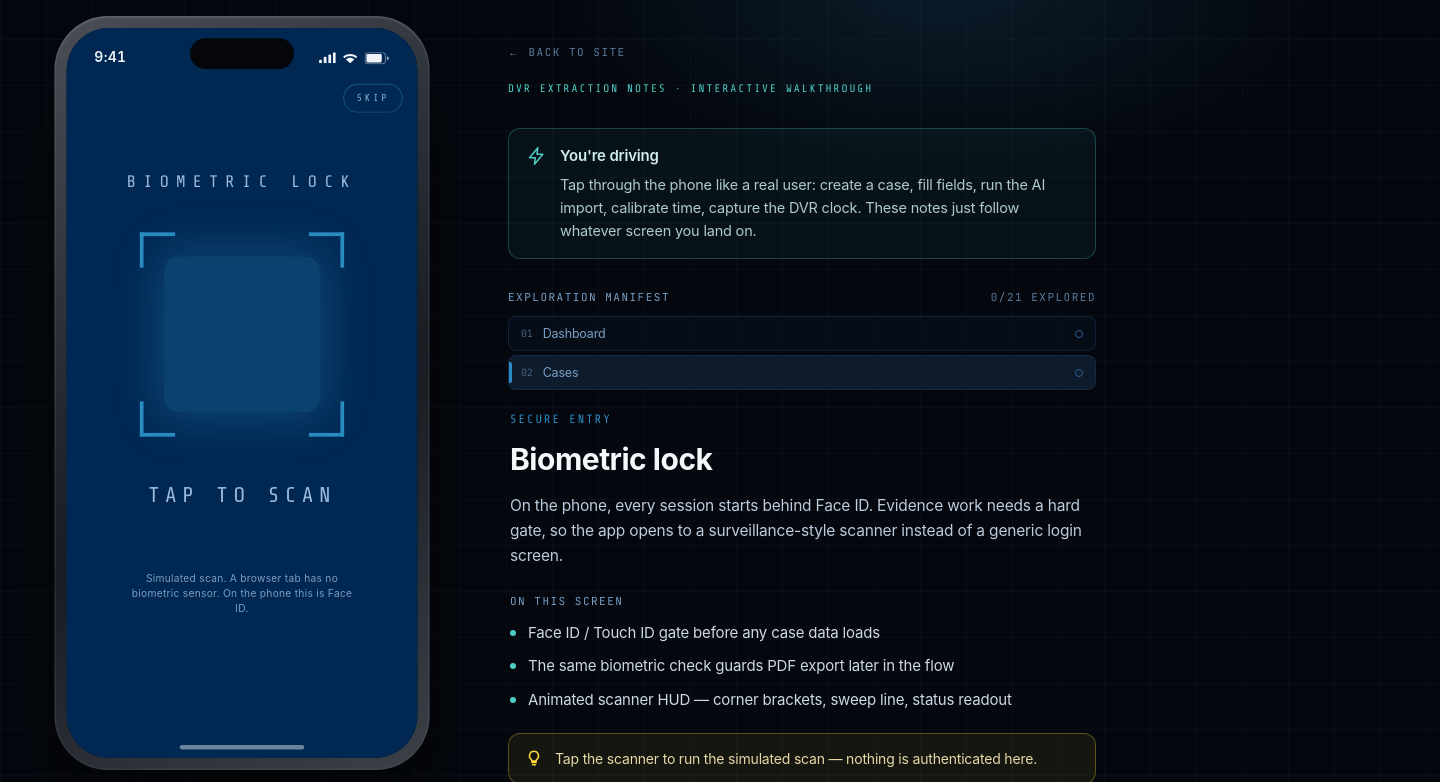
DemoExperience — boot gate › a rail jump lifts the gate too — the checklist is outside the phone and stays clickable
Expected: the element with test id "demo-boot" is shown, [66, 28, 418, 758]
Click the button with aria-label "Dashboard, " at (574, 334), box [508, 316, 1096, 351]
(page scrolled)
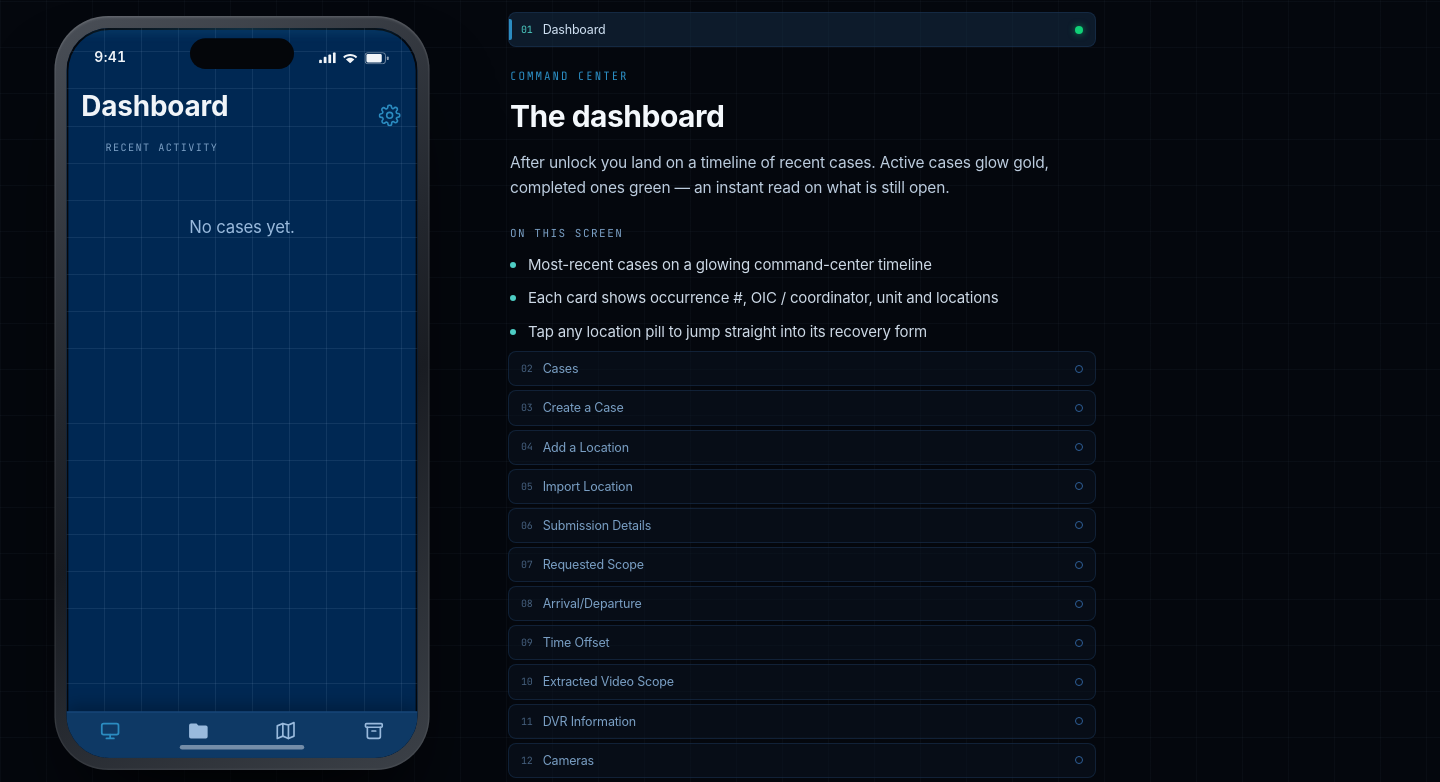
Now the element with test id "demo-boot" is gone
Now the heading "The dashboard" is shown, box [510, 98, 724, 134]
